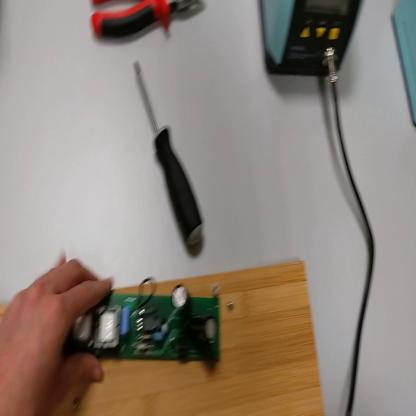hand: (2, 249, 114, 415)
high voltage board: (70, 272, 226, 362)
pliers: (89, 3, 204, 38)
screwdriver-: (136, 58, 207, 257)
welder base: (391, 4, 415, 127)
welder station: (257, 3, 364, 83)
working area: (62, 258, 327, 415)
